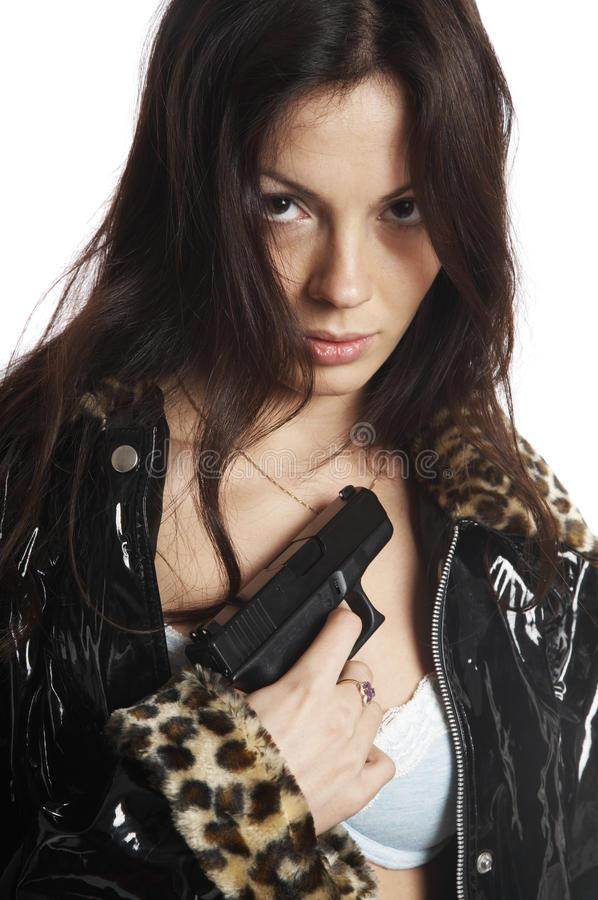criminal: (0, 0, 598, 900)
weapon: (191, 476, 400, 706)
